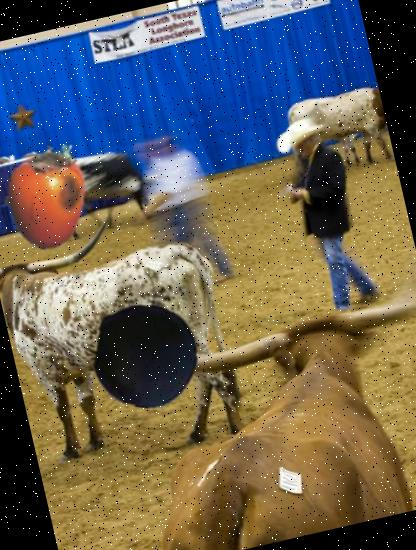Grape: (83, 292, 208, 418)
Kaki: (0, 134, 108, 260)
